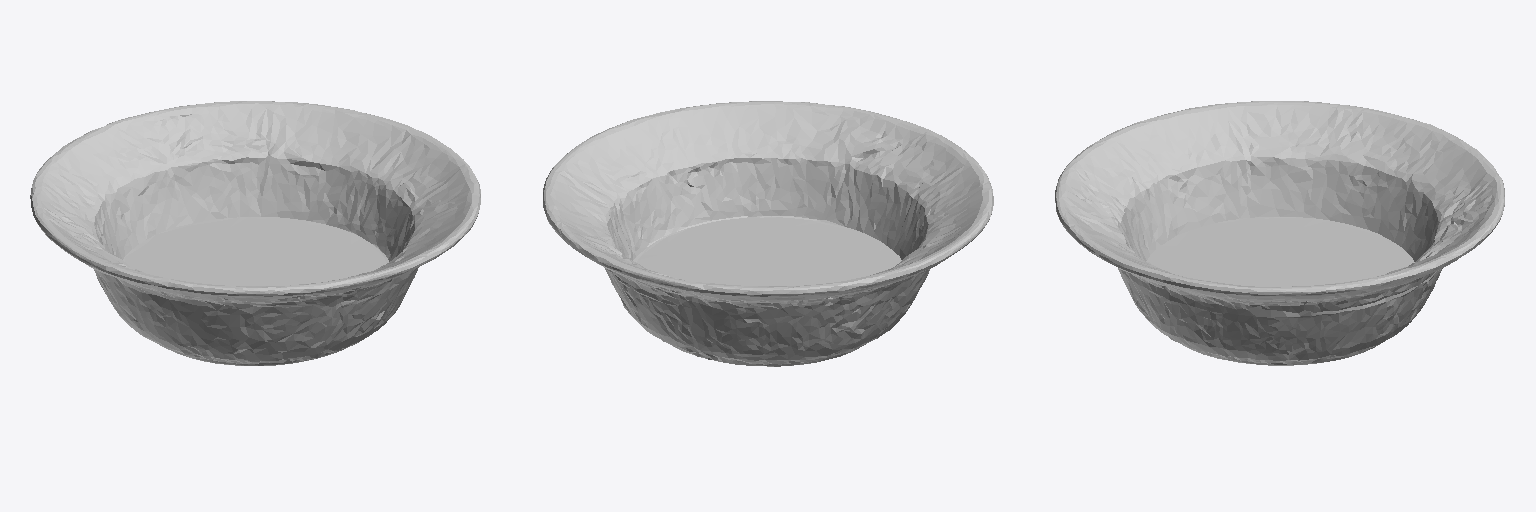
Rendered from lebrillo_0505190924_texture.obj.
The picture shows the model from 3 angles: view 1: azimuth 30°, elevation 25°; view 2: azimuth 150°, elevation 25°; view 3: azimuth 270°, elevation 25°; orthographic projection.
Parts seen in each view (by area): view 1: lebrillo_[number redacted]_texture; view 2: lebrillo_[number redacted]_texture; view 3: lebrillo_[number redacted]_texture.
Part boxes in pixels (bbox=[...]): lebrillo_[number redacted]_texture: bbox=[30, 101, 480, 365]; lebrillo_[number redacted]_texture: bbox=[543, 101, 993, 366]; lebrillo_[number redacted]_texture: bbox=[1055, 101, 1504, 365].
Bounding box in the file's own units: 2 × 0.6045 × 2.